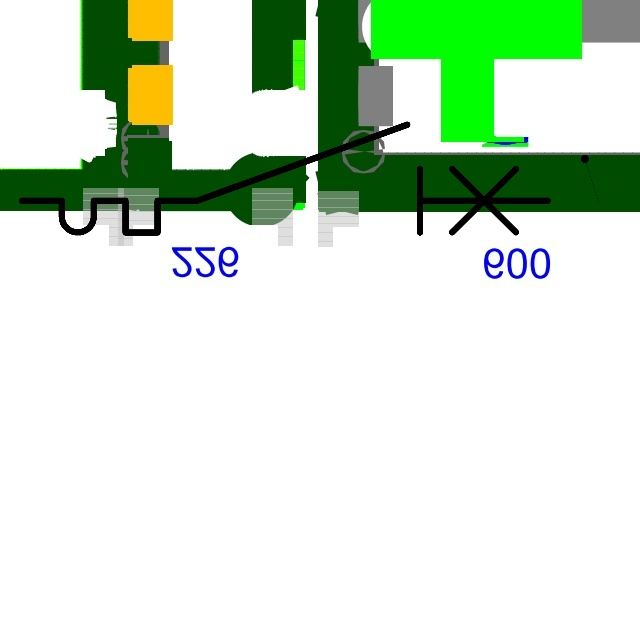interruptor_termomagnetico: (8, 111, 561, 246)
